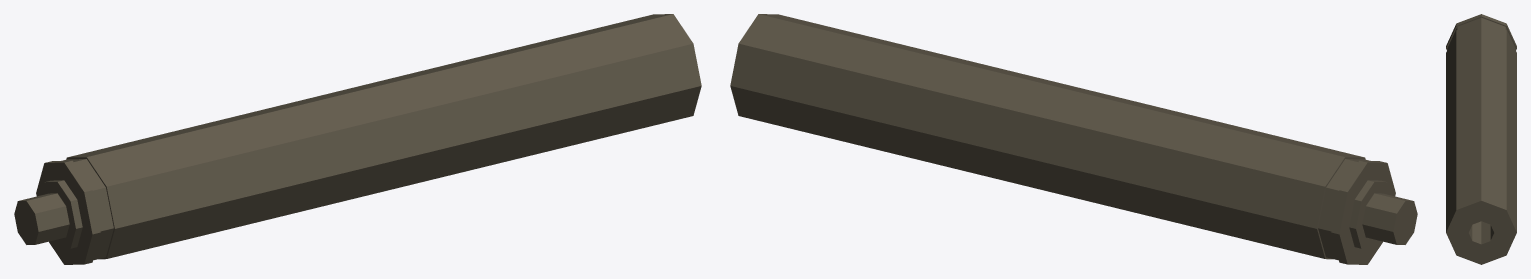
File: Muffler_01_4.fbx
The picture shows the model from 3 angles, left to right: view 1: azimuth 30°, elevation 25°; view 2: azimuth 150°, elevation 25°; view 3: azimuth 270°, elevation 25°; orthographic projection. The views are drawn at different scales.
Visible parts, largest first — view 1: Muffler_01_4; view 2: Muffler_01_4; view 3: Muffler_01_4.
Boxes of the visible parts, x1,y1,x2,y2 form: Muffler_01_4: (14,14,701,264); Muffler_01_4: (730,14,1417,264); Muffler_01_4: (1446,14,1516,264).
Bounding box in the file's own units: 0.2491 × 0.0376 × 0.0376.
